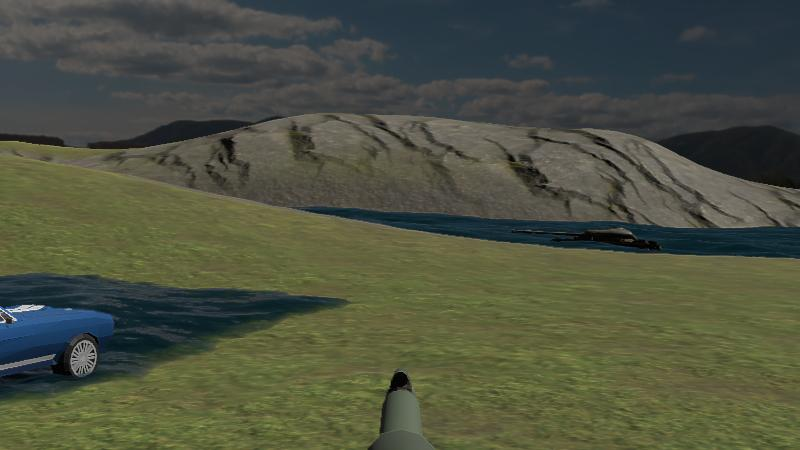car: (0, 283, 116, 411)
